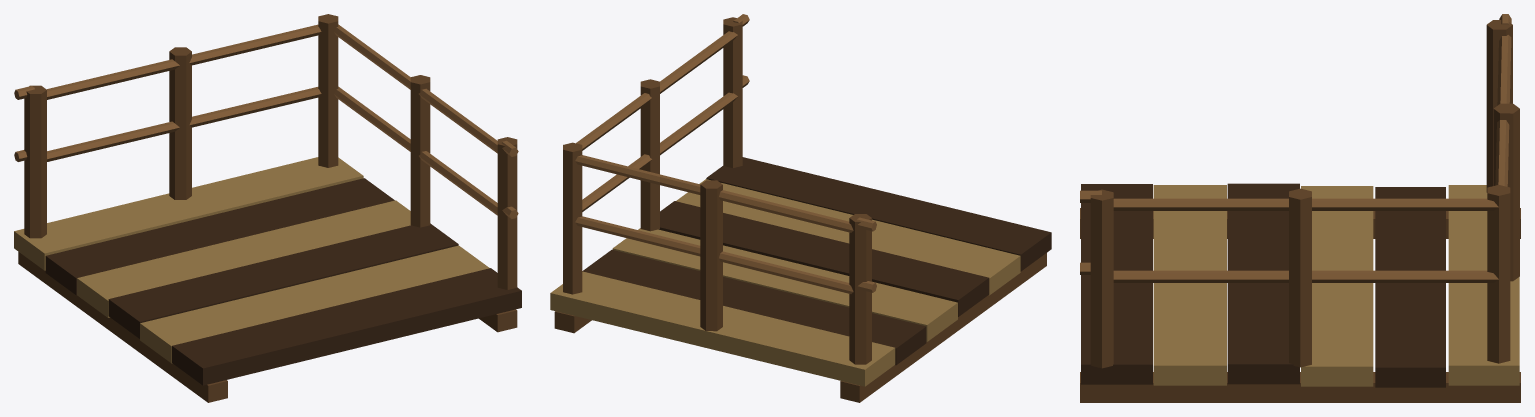
The model's file is bridge_corner.obj.
The picture shows the model from 3 angles, left to right: view 1: azimuth 30°, elevation 25°; view 2: azimuth 150°, elevation 25°; view 3: azimuth 270°, elevation 25°; orthographic projection. The views are drawn at different scales.
Parts seen in each view (by area): view 1: geometry_5, geometry_3, geometry_4, geometry_0, geometry_1, geometry_2, geometry_10, geometry_9, geometry_19, geometry_20, geometry_21, geometry_6 (+9 smaller); view 2: geometry_0, geometry_5, geometry_3, geometry_1, geometry_4, geometry_2, geometry_9, geometry_10, geometry_19, geometry_6, geometry_21, geometry_20 (+9 smaller); view 3: geometry_4, geometry_1, geometry_3, geometry_2, geometry_5, geometry_0, geometry_7, geometry_21, geometry_20, geometry_19, geometry_9, geometry_22 (+6 smaller).
Part boxes in pixels (left/top/right/bottom): geometry_5: left=172, top=268, right=521, bottom=385; geometry_3: left=108, top=223, right=458, bottom=338; geometry_4: left=140, top=245, right=489, bottom=363; geometry_0: left=14, top=157, right=363, bottom=270; geometry_1: left=45, top=178, right=394, bottom=295; geometry_2: left=77, top=200, right=410, bottom=317; geometry_10: left=24, top=85, right=46, bottom=238; geometry_9: left=169, top=47, right=191, bottom=199; geometry_19: left=318, top=14, right=338, bottom=167; geometry_20: left=410, top=75, right=430, bottom=227; geometry_21: left=497, top=137, right=517, bottom=289; geometry_6: left=18, top=252, right=227, bottom=402; geometry_0: left=550, top=271, right=895, bottom=386; geometry_5: left=706, top=157, right=1051, bottom=271; geometry_3: left=658, top=201, right=989, bottom=316; geometry_1: left=582, top=249, right=926, bottom=365; geometry_4: left=676, top=179, right=1020, bottom=295; geometry_2: left=612, top=228, right=957, bottom=341; geometry_9: left=700, top=180, right=722, bottom=331; geometry_10: left=849, top=214, right=871, bottom=364; geometry_19: left=563, top=142, right=582, bottom=294; geometry_6: left=840, top=253, right=1046, bottom=402; geometry_21: left=723, top=17, right=742, bottom=167; geometry_20: left=640, top=79, right=659, bottom=231; geometry_4: left=1153, top=185, right=1226, bottom=385; geometry_1: left=1375, top=187, right=1445, bottom=387; geometry_3: left=1227, top=183, right=1299, bottom=384; geometry_2: left=1301, top=186, right=1373, bottom=386; geometry_5: left=1081, top=184, right=1152, bottom=384; geometry_0: left=1448, top=185, right=1519, bottom=385; geometry_7: left=1080, top=372, right=1520, bottom=402; geometry_21: left=1090, top=189, right=1113, bottom=368; geometry_20: left=1289, top=188, right=1311, bottom=367; geometry_19: left=1487, top=185, right=1510, bottom=363; geometry_9: left=1493, top=103, right=1519, bottom=281; geometry_22: left=1312, top=270, right=1498, bottom=282.
Bounding box in the file's own units: 0.9945 × 0.5237 × 1.
